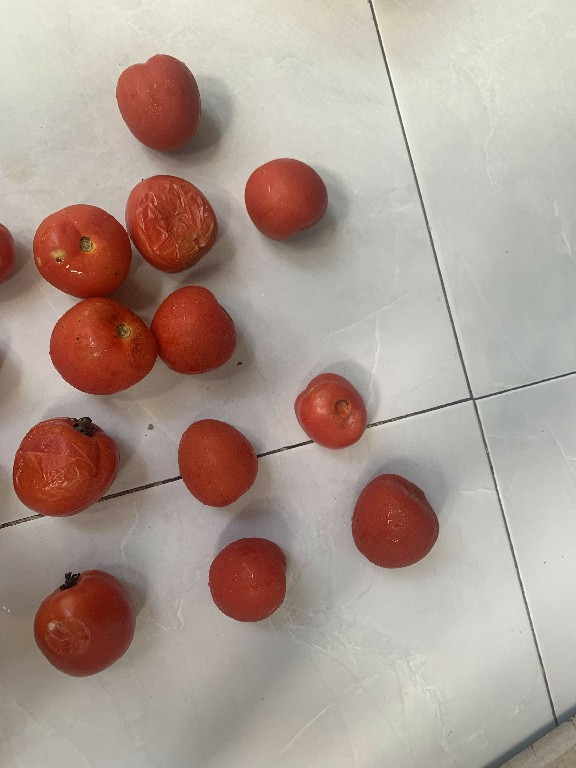NG: (28, 558, 146, 678), (10, 410, 124, 525), (121, 168, 225, 277), (45, 294, 149, 402), (26, 197, 130, 295), (296, 363, 372, 456)
OK: (106, 47, 207, 155), (346, 468, 438, 574), (164, 412, 256, 511), (201, 532, 296, 626), (155, 280, 244, 379), (238, 148, 329, 242)
